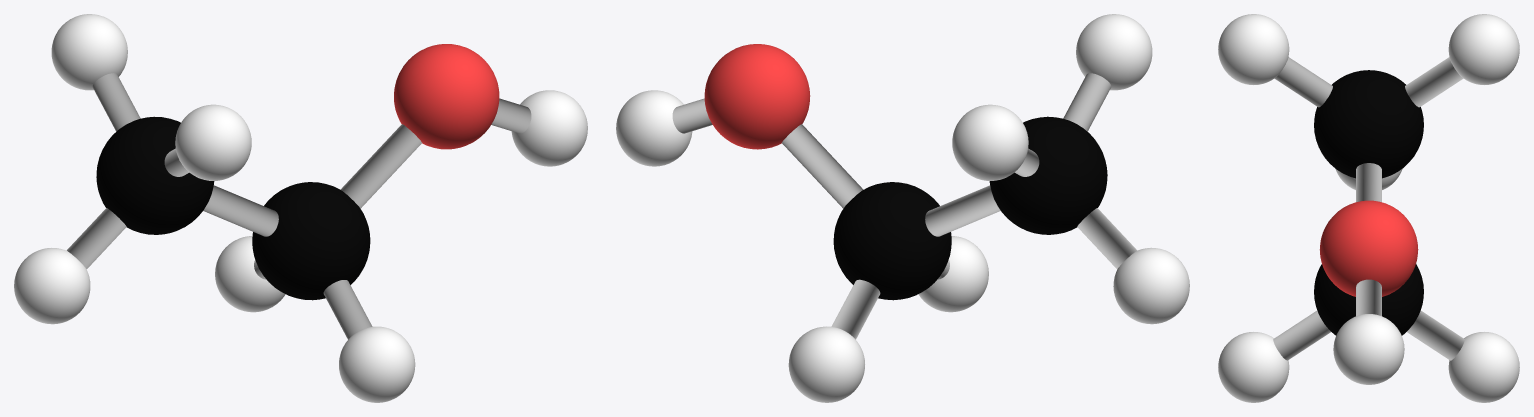
File: template.gltf
3 views of the same model, side by side, from view 1: azimuth 30°, elevation 25°; view 2: azimuth 150°, elevation 25°; view 3: azimuth 270°, elevation 25° (orthographic). The views are drawn at different scales.
Parts seen in each view (by area): view 1: Ethanol.mol; view 2: Ethanol.mol; view 3: Ethanol.mol.
Part boxes in pixels (x1=…): Ethanol.mol: x1=14, y1=14, x2=587, y2=402; Ethanol.mol: x1=616, y1=14, x2=1189, y2=402; Ethanol.mol: x1=1218, y1=14, x2=1519, y2=402.
Size of the model in its own units: 4.68 by 2.63 by 2.33.
